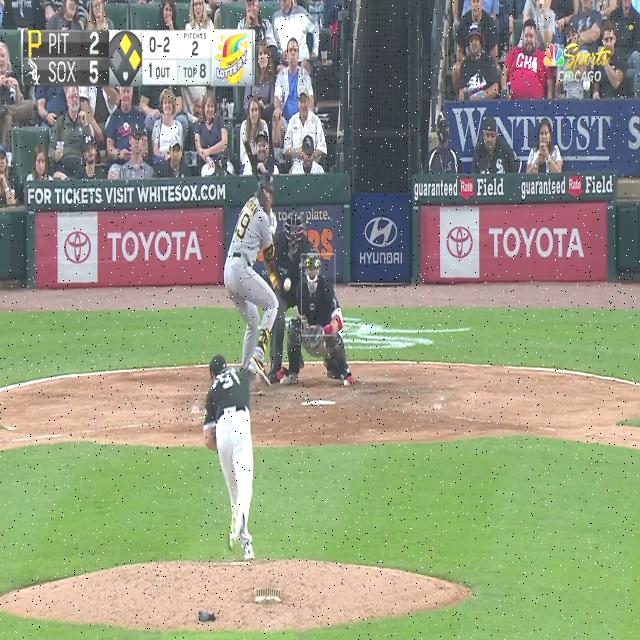baseball: (284, 277, 292, 292)
